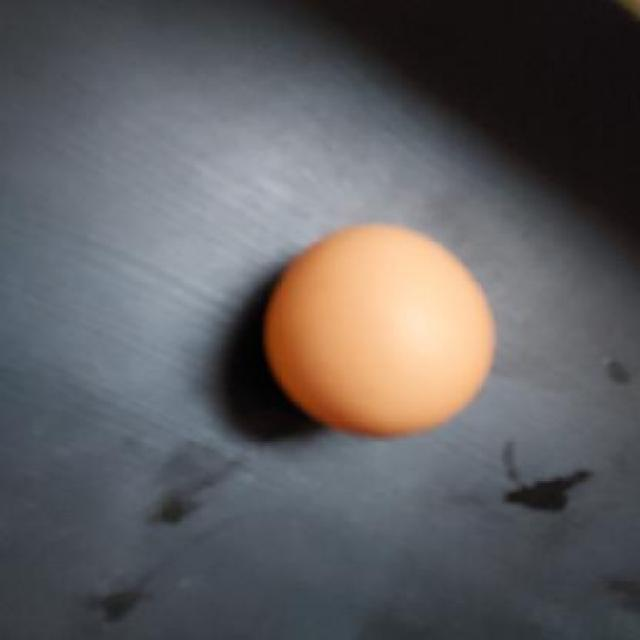biodegradable: (260, 224, 500, 436)
